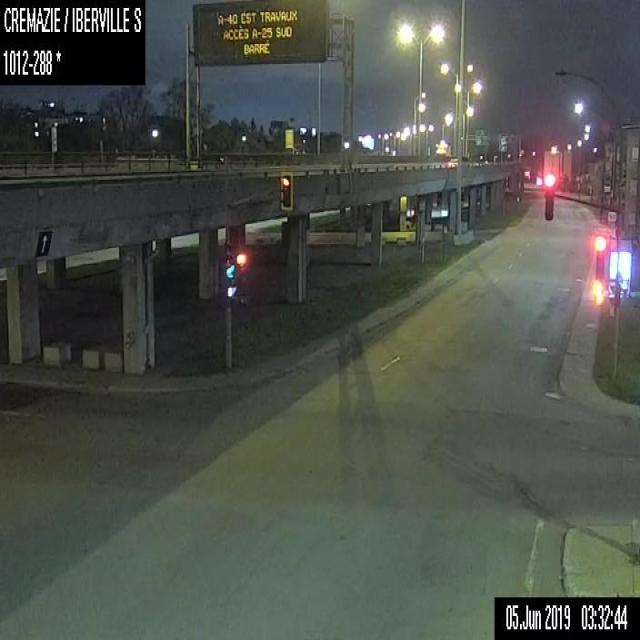vehicle: (447, 157, 457, 167)
